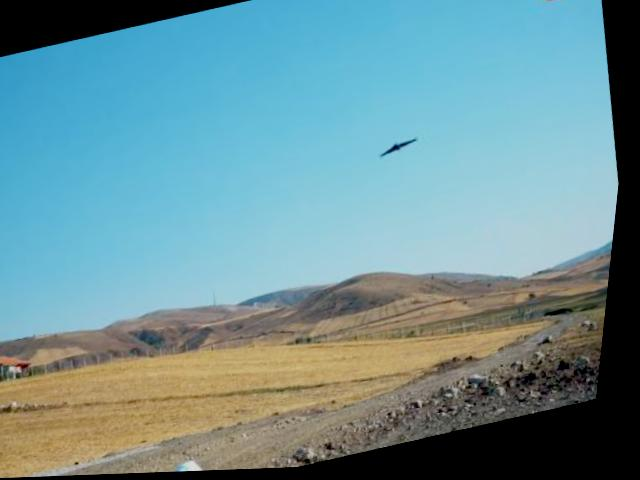uav: (379, 138, 424, 163)
